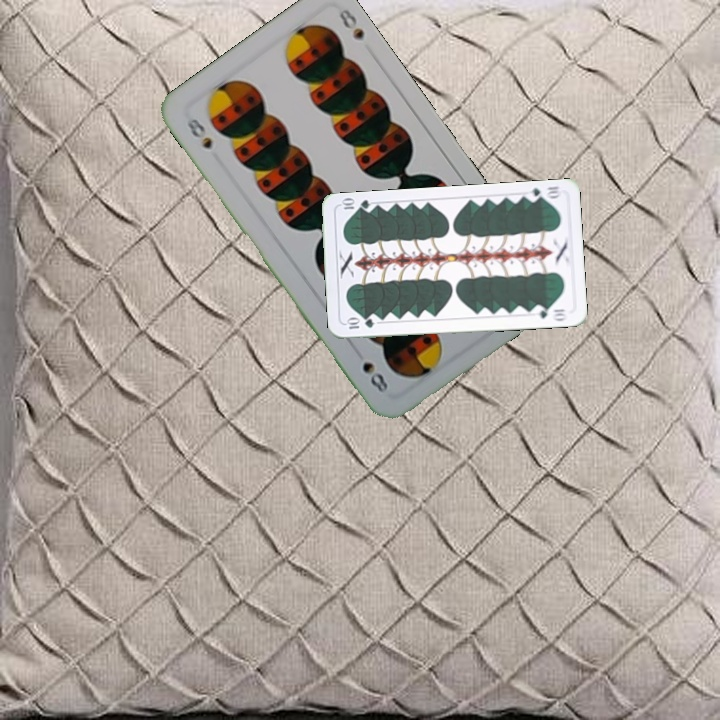G10: (523, 182, 564, 204), (342, 315, 376, 331)
S8: (181, 112, 215, 152)
